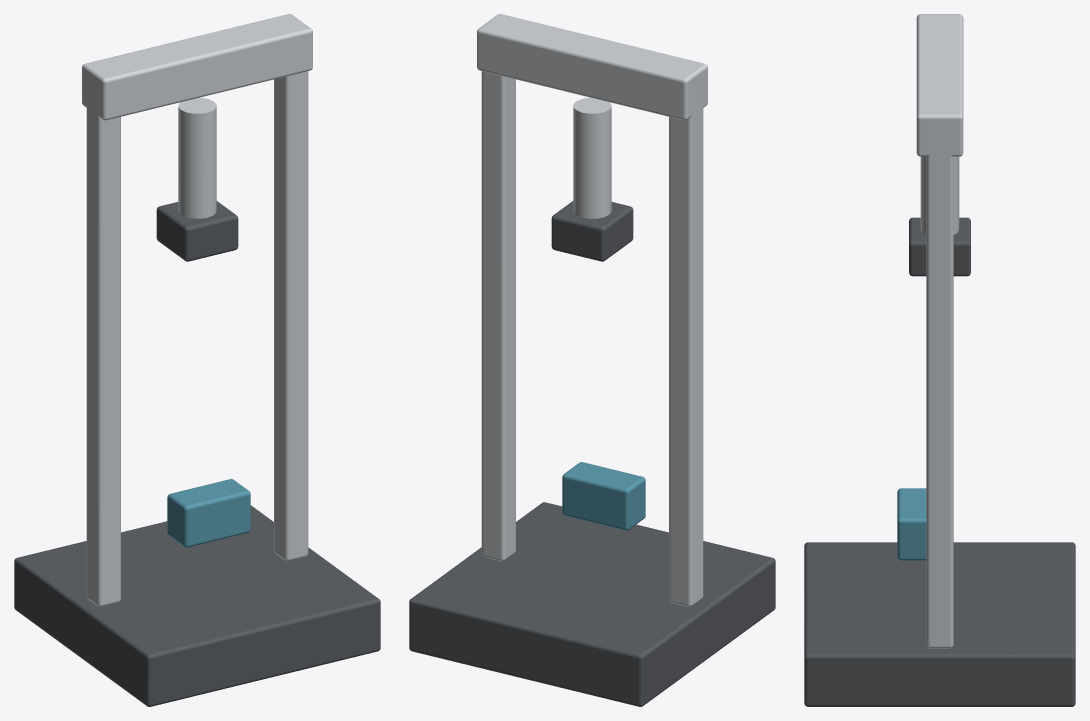
Rendered from geotechnical-soil-testing-laboratory-axial-loading-fra-1bd3f7fc__39045.glb.
The picture shows the model from 3 angles, left to right: view 1: azimuth 30°, elevation 25°; view 2: azimuth 150°, elevation 25°; view 3: azimuth 270°, elevation 25°; orthographic projection.
Visible parts, largest first — view 1: axial-loading-frame; view 2: axial-loading-frame; view 3: axial-loading-frame.
Part boxes in pixels (x1,y1,x2,y2): axial-loading-frame: [14, 14, 380, 706]; axial-loading-frame: [409, 14, 775, 706]; axial-loading-frame: [804, 14, 1075, 706].
Bounding box in the file's own units: 0.7 × 1.67 × 0.7.
